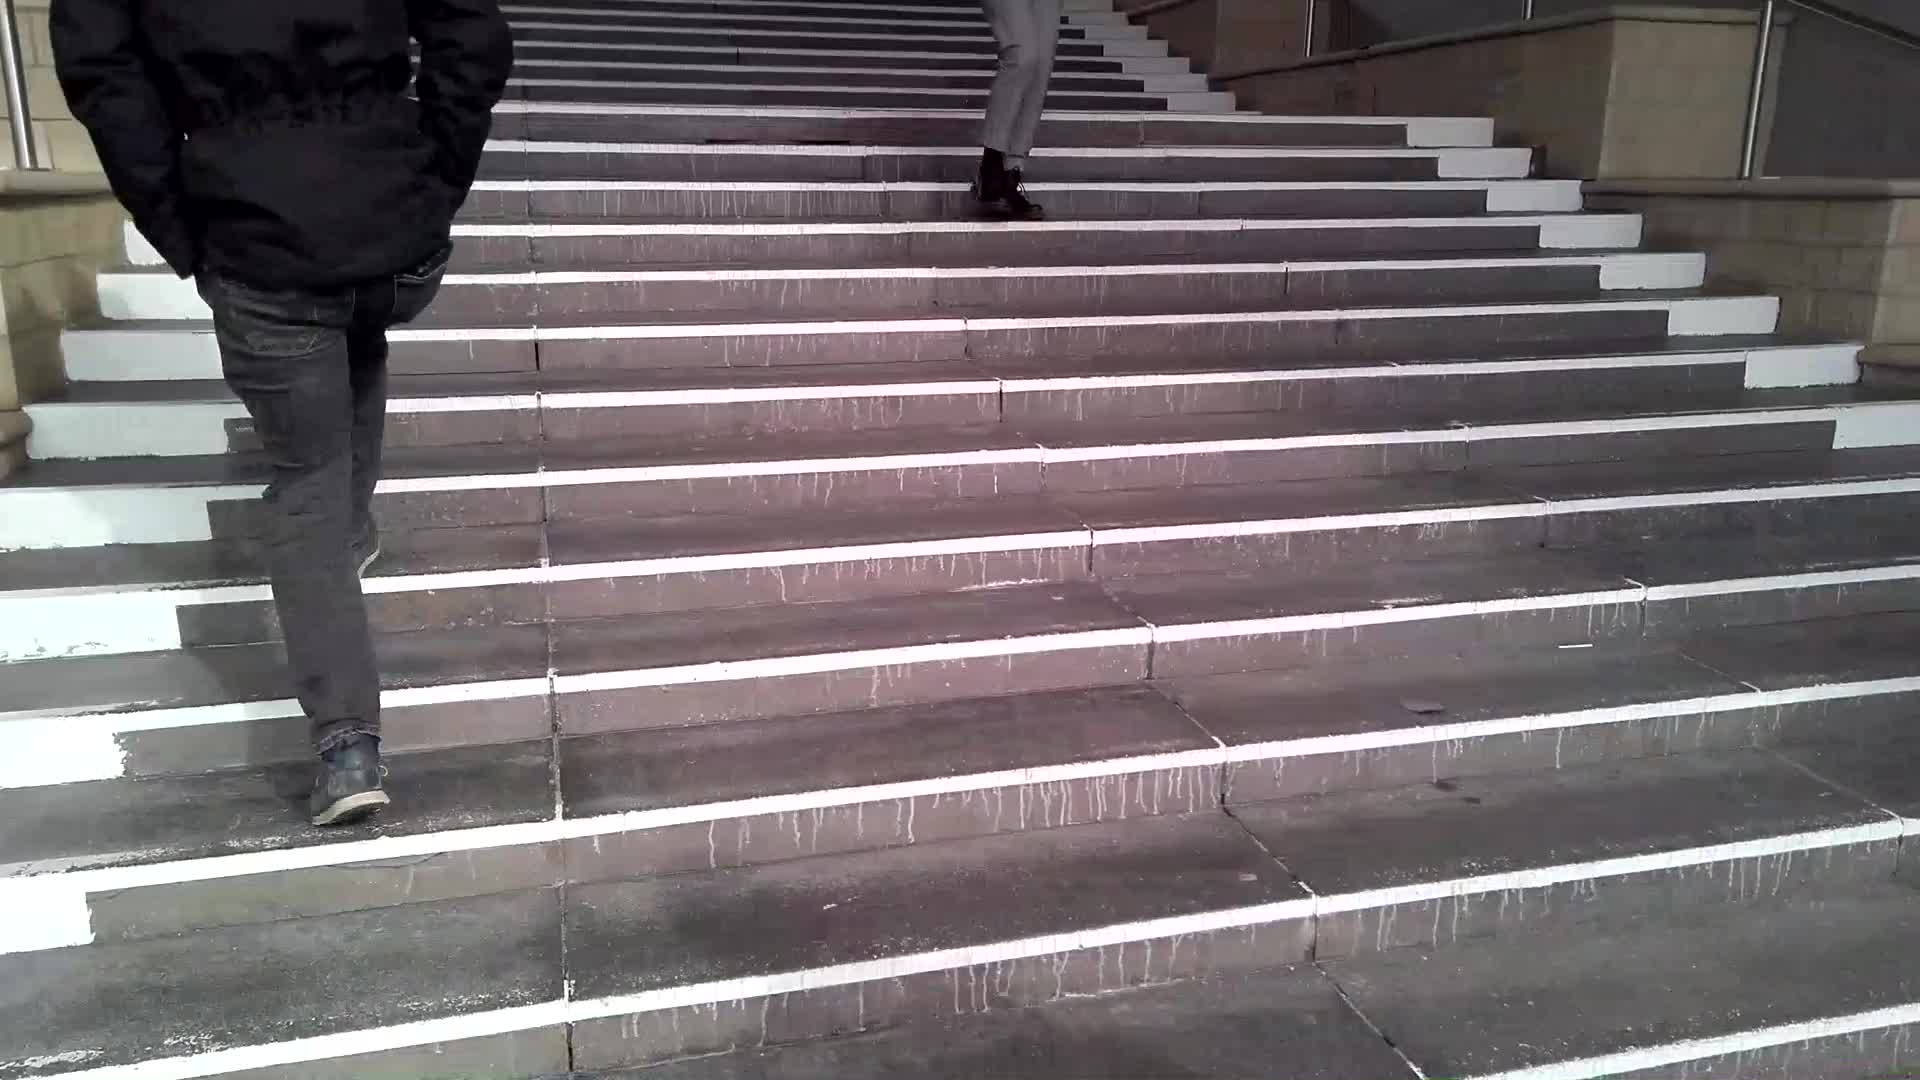Stairs: (549, 87, 1920, 1080)
